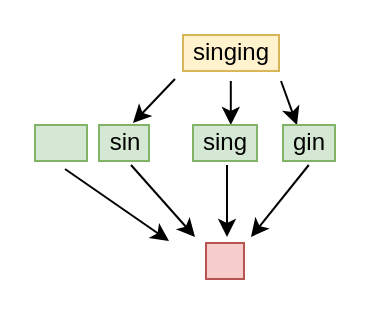
This 370x314 diagram has some shape labels left out. Here are the shapes that lost their labels. From the top down, the box of each, then its label:
(33, 123, 87, 161): pin
(204, 241, 244, 279): in
